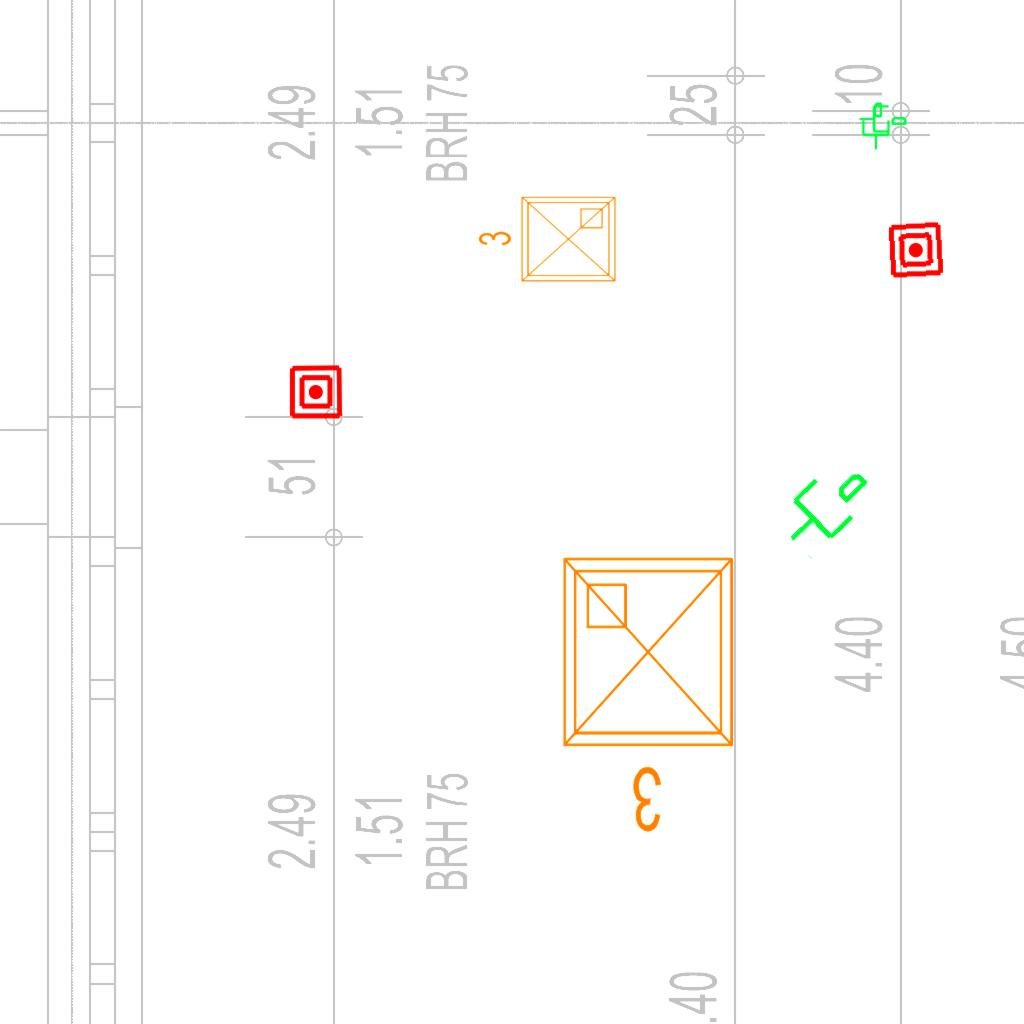Datenanschluss_einfach: (764, 445, 885, 565), (858, 101, 908, 135), (858, 101, 892, 151)
Einbaudownlights_LED_Konferenzraeume: (548, 543, 756, 843), (473, 189, 623, 293)
NAM-Nichtautomatischer_Melder: (886, 220, 946, 280), (288, 364, 344, 420)
